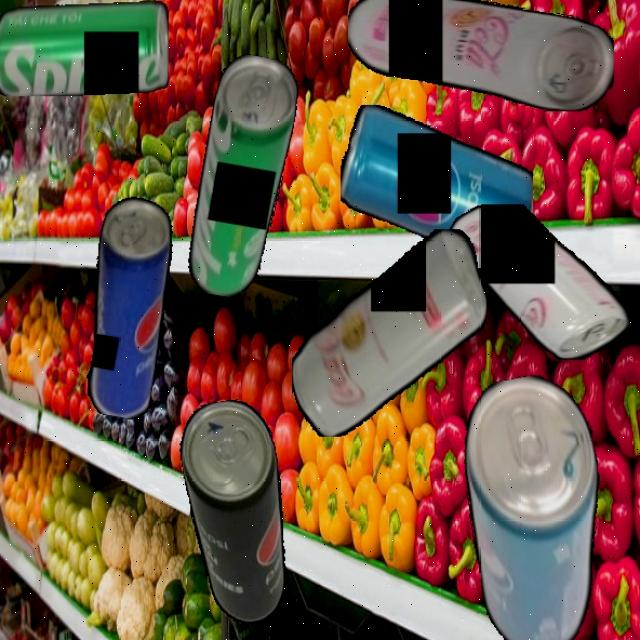debris: (447, 367, 628, 640), (291, 228, 486, 437), (339, 104, 533, 268), (182, 51, 304, 303), (173, 395, 304, 628), (347, 0, 614, 111), (450, 203, 629, 360), (70, 192, 184, 422), (0, 0, 169, 96)
